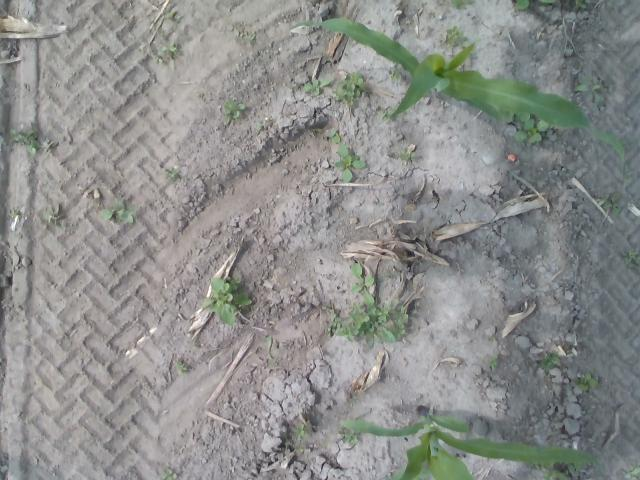Maize: (292, 15, 626, 186), (338, 407, 598, 480)
Weeds: (324, 298, 409, 348), (200, 274, 253, 327), (504, 110, 550, 145), (574, 74, 616, 107), (333, 144, 366, 183), (348, 262, 375, 306), (335, 72, 368, 106), (98, 199, 136, 224), (8, 128, 41, 154), (284, 423, 309, 454), (150, 42, 181, 64), (220, 98, 246, 124), (300, 77, 333, 96), (595, 192, 621, 214), (572, 372, 600, 392), (39, 207, 64, 228), (618, 458, 640, 480), (514, 0, 556, 11), (538, 352, 561, 372), (233, 27, 256, 46), (264, 336, 276, 368), (444, 26, 464, 45), (542, 468, 572, 480), (338, 428, 358, 445), (621, 250, 640, 267), (380, 104, 400, 120), (160, 166, 180, 181), (398, 148, 416, 164), (458, 40, 476, 55), (450, 0, 474, 11), (158, 467, 178, 480), (566, 461, 584, 474), (528, 461, 554, 470), (326, 130, 341, 144), (174, 360, 188, 375), (165, 9, 182, 21), (488, 353, 498, 370), (388, 70, 402, 82), (572, 0, 588, 9), (10, 209, 18, 218), (348, 398, 358, 404), (257, 123, 263, 130), (198, 94, 204, 100), (374, 202, 382, 206)
